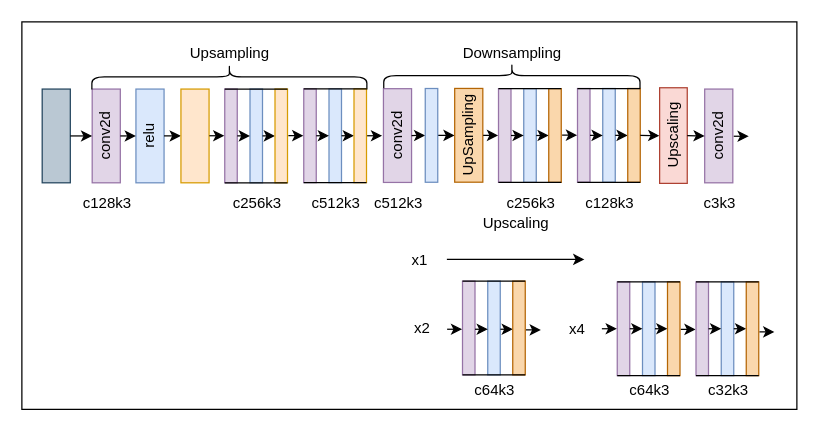
This 819x431 diagram has some shape labels left out. Each missing label, with the centre of its shape:
"Input" belongs at point (55, 135).
"MaxPooling" belongs at point (194, 135).
